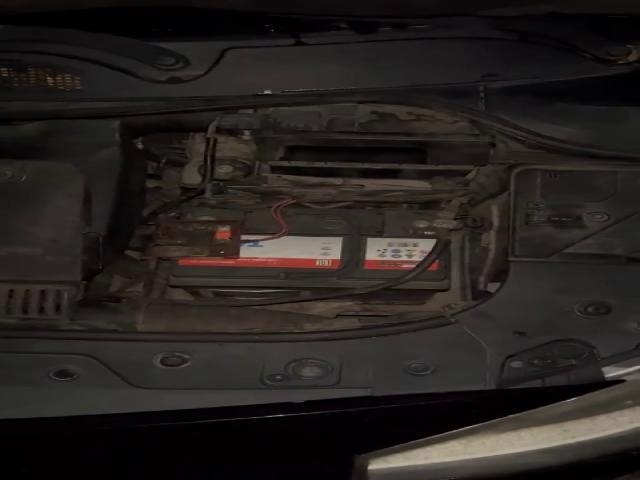accumulator: (146, 206, 462, 304)
fuse_box: (514, 167, 635, 265)
